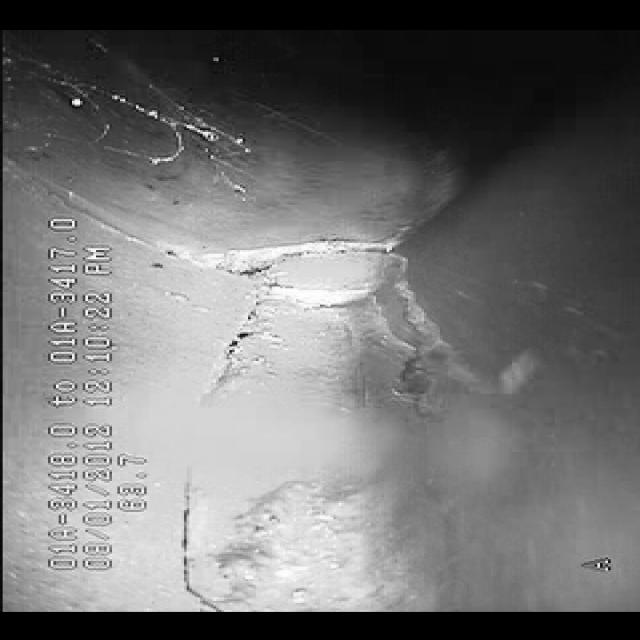Fracture: (138, 267, 316, 571)
